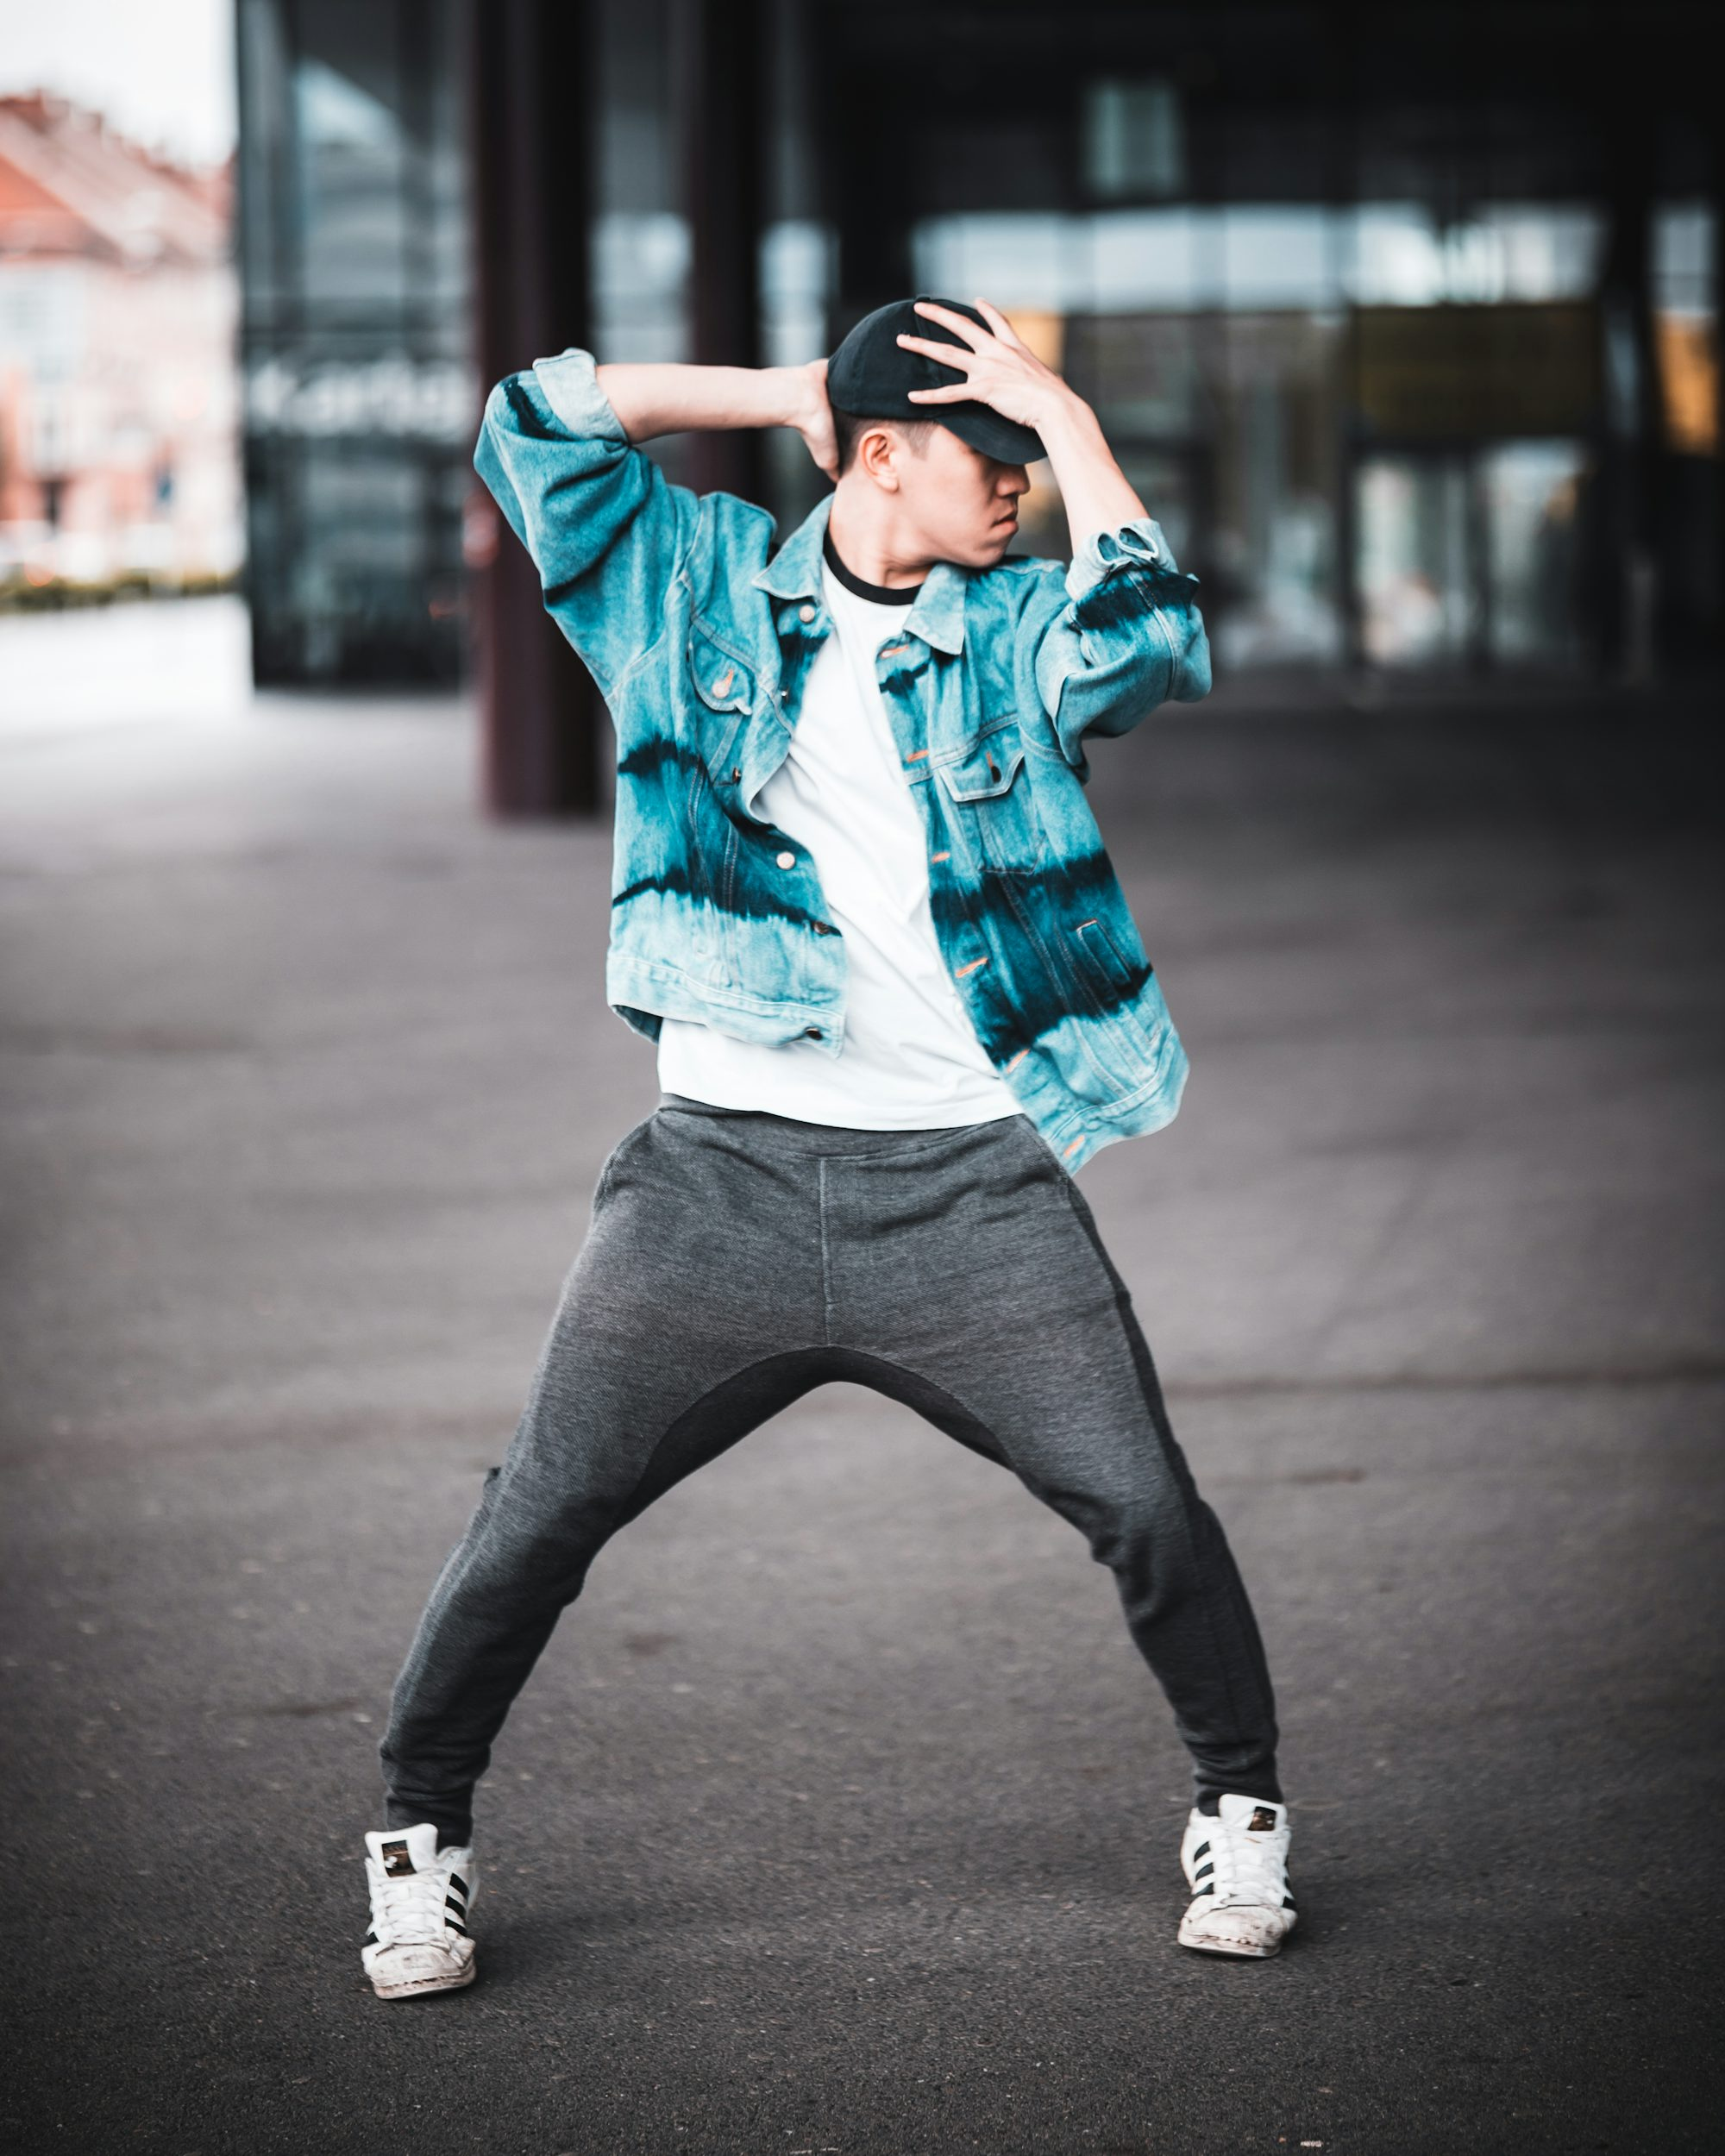person: (275, 197, 1495, 2033)
